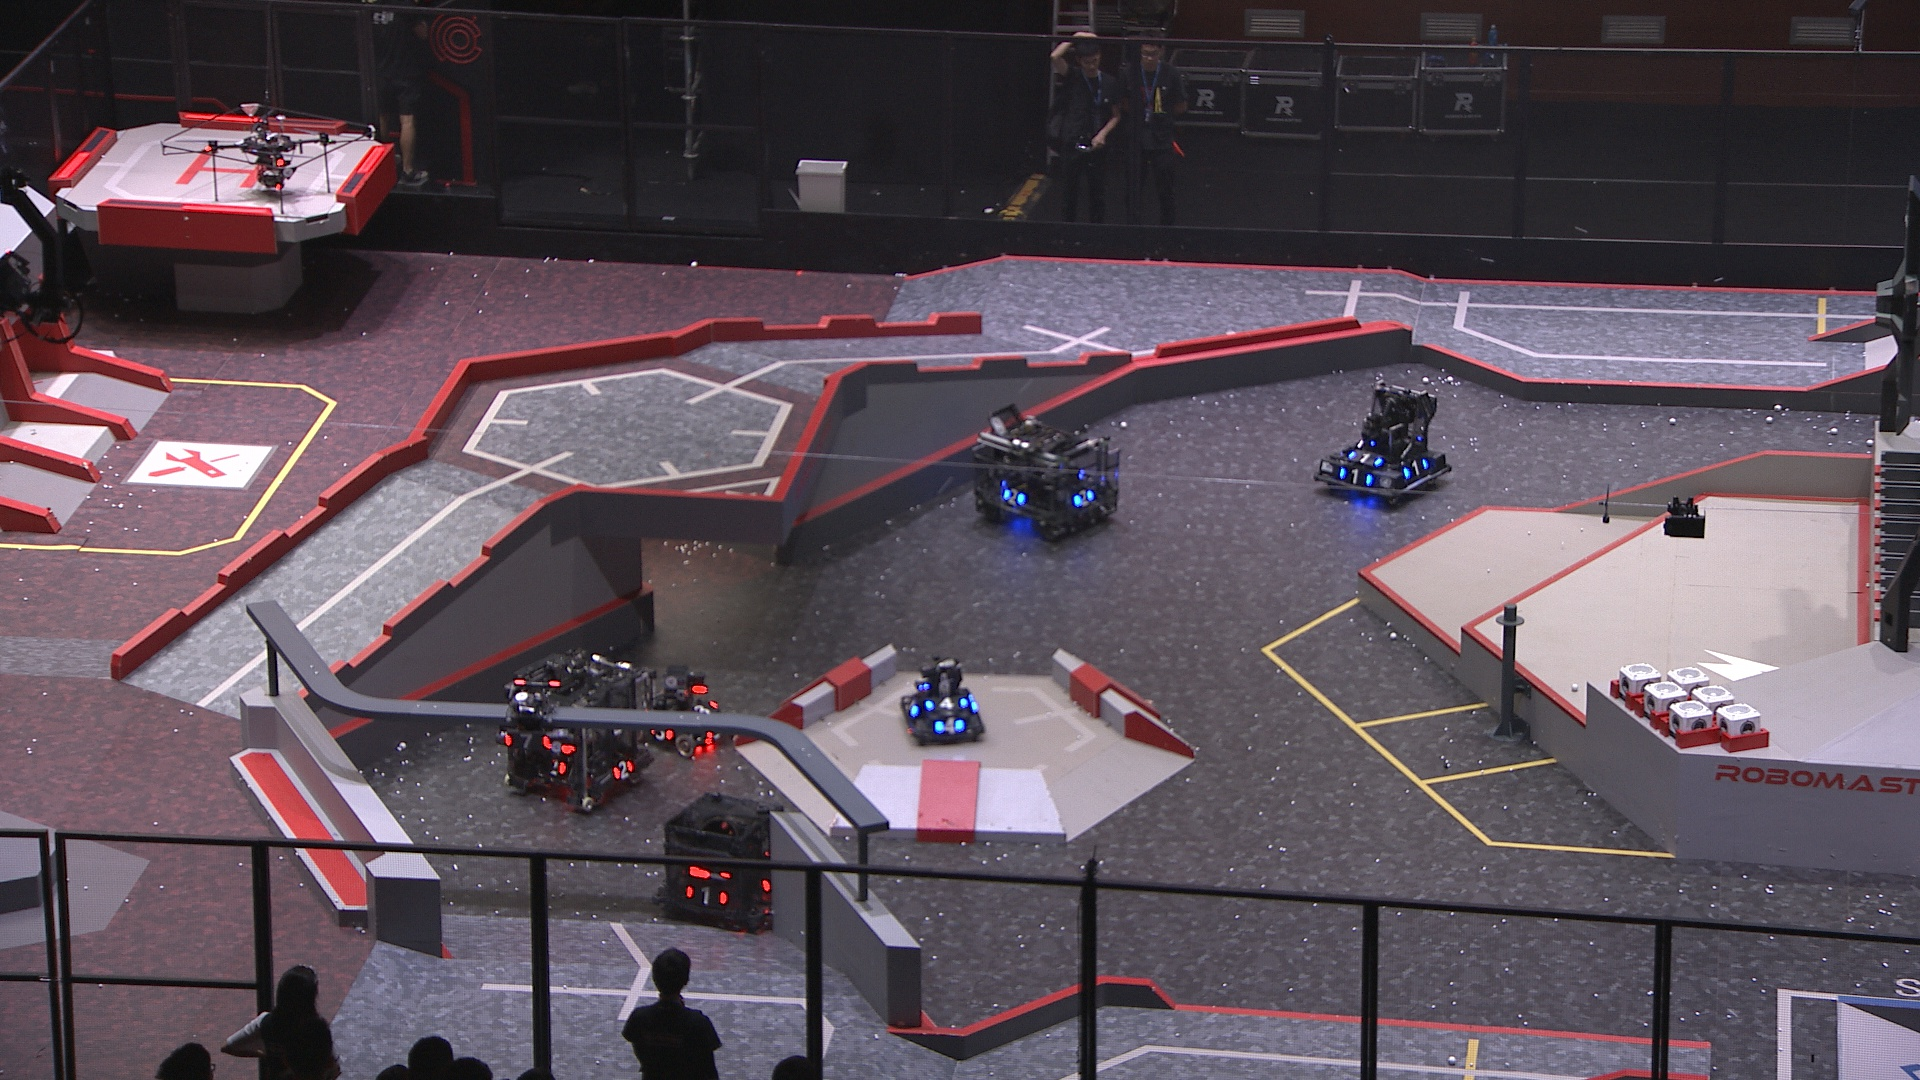armor: (683, 884, 732, 907), (501, 731, 553, 750), (1338, 463, 1371, 489), (924, 694, 968, 712), (1348, 448, 1385, 469), (931, 713, 965, 735), (1399, 458, 1429, 481), (611, 757, 636, 782), (1000, 485, 1025, 509), (1069, 487, 1097, 506), (688, 699, 717, 717), (650, 723, 673, 742), (902, 695, 922, 717), (543, 760, 567, 778)
car: (491, 650, 661, 811), (972, 400, 1131, 545), (659, 789, 783, 935), (1313, 382, 1455, 502), (644, 666, 740, 757), (894, 655, 992, 745)
watcher: (498, 675, 568, 777)
